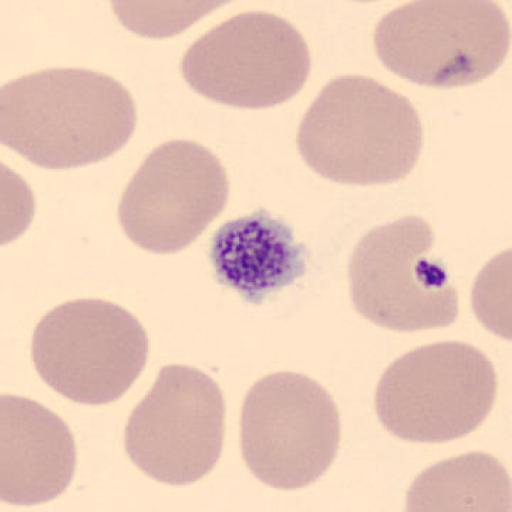Platelet: (205, 208, 311, 303)
RBC: (296, 72, 426, 189), (2, 66, 140, 172), (178, 9, 314, 114), (29, 296, 152, 409), (345, 216, 461, 334), (372, 339, 498, 447), (116, 137, 231, 255), (122, 360, 228, 488), (370, 0, 512, 90), (238, 370, 342, 492), (2, 392, 78, 508), (373, 0, 468, 89), (401, 448, 511, 512), (106, 0, 245, 41), (471, 245, 512, 345), (1, 160, 37, 248)
